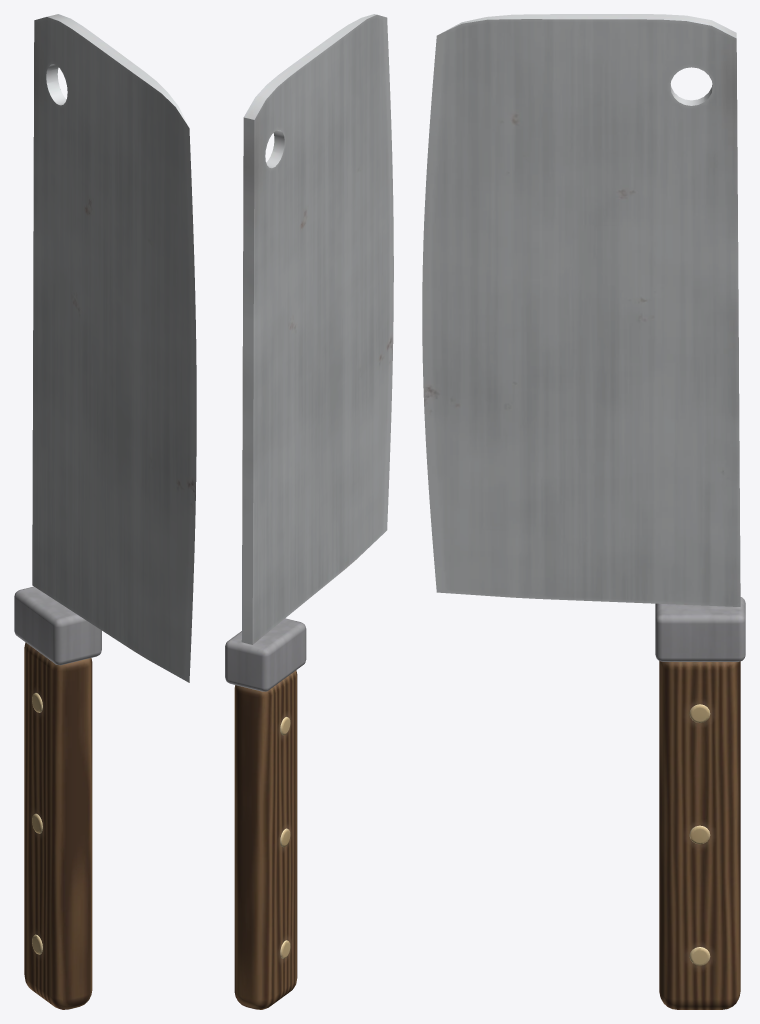
File: cleaver.glb
3 renders of one model, left to right at view 1: azimuth 30°, elevation 25°; view 2: azimuth 150°, elevation 25°; view 3: azimuth 270°, elevation 25°, orthographic. The views are drawn at different scales.
Parts seen in each view (by area): view 1: cleaver; view 2: cleaver; view 3: cleaver.
Boxes of the visible parts, x1=… form: cleaver: x1=14, y1=14, x2=196, y2=1009; cleaver: x1=225, y1=14, x2=393, y2=1009; cleaver: x1=422, y1=14, x2=745, y2=1009.
Bounding box in the file's own units: 0.0172 × 0.3385 × 0.1003.
Materials: 1 (1 with a texture image).
